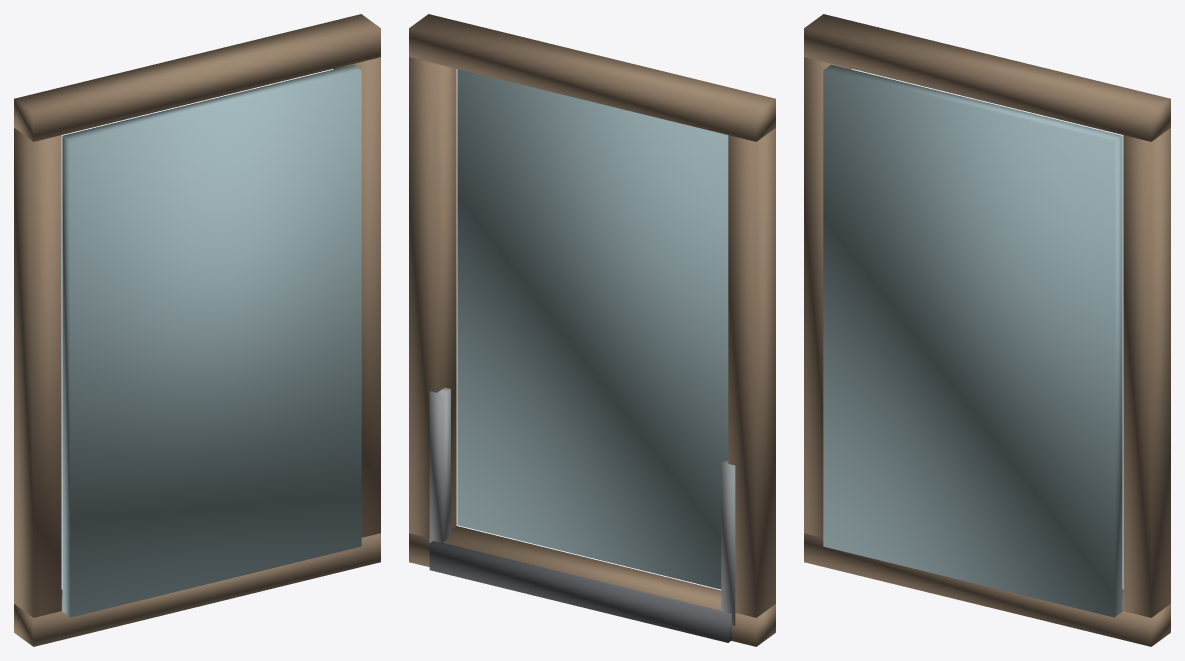
Rendered from motel_wall_mirror__reinforced.glb.
3 renders of one model, left to right at view 1: azimuth 30°, elevation 25°; view 2: azimuth 150°, elevation 25°; view 3: azimuth 330°, elevation 25°, orthographic.
Visible parts, largest first — view 1: world; view 2: world; view 3: world.
Boxes of the visible parts, <box> form: world: <box>14,14,380,646</box>; world: <box>409,14,775,646</box>; world: <box>804,14,1170,646</box>.
Size of the model in its own units: 0.6386 by 0.9384 by 0.1025.
